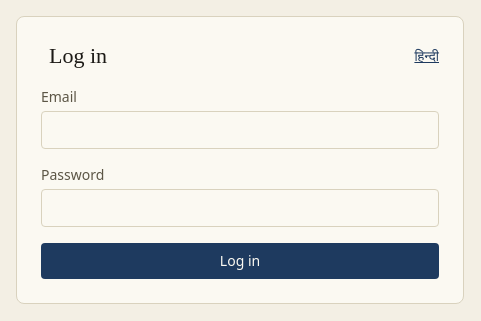
Test: Login page › renders three StatusBadge instances after a mocked successful login
This screenshot has width=481, height=321.
Type "jane@example.com" into the field with test id "email-input" at (240, 130), box [41,111,439,149]
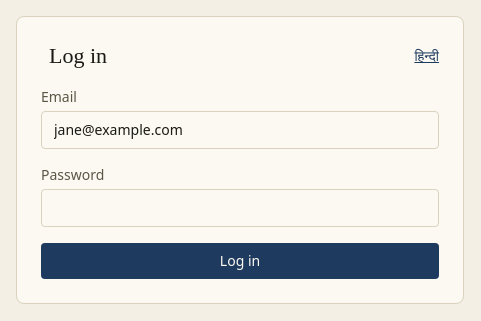
Type "correct-password" into the password field with test id "password-input" at (240, 208), box [41,189,439,227]
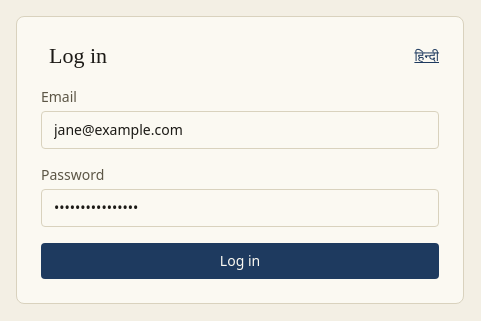
Click the button "Log in" at (240, 261), box [41,243,439,279]
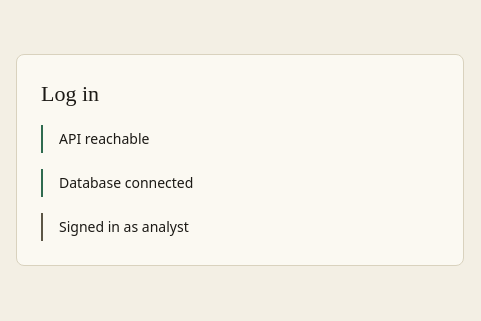
Expected: the number of messages is 3, [41,125,439,153]; [41,169,439,197]; [41,213,439,241]
